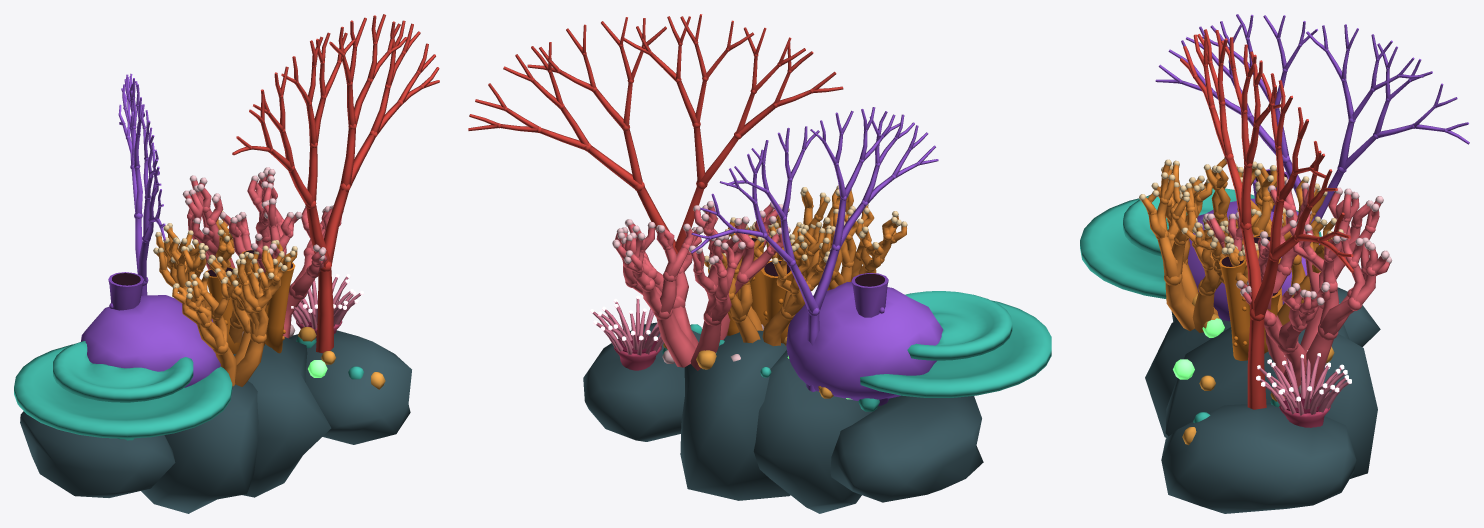
Rendered from reef_small.glb.
3 renders of one model, left to right at view 1: azimuth 30°, elevation 25°; view 2: azimuth 150°, elevation 25°; view 3: azimuth 270°, elevation 25°, orthographic. The views are drawn at different scales.
Visible parts, largest first — view 1: reef_small_mesh; view 2: reef_small_mesh; view 3: reef_small_mesh.
Part boxes in pixels (box(x1,y1,x2,y2)): reef_small_mesh: box(14, 14, 439, 513); reef_small_mesh: box(468, 14, 1051, 513); reef_small_mesh: box(1080, 14, 1469, 513).
Size of the model in its own units: 4.11 by 3.67 by 2.6.
